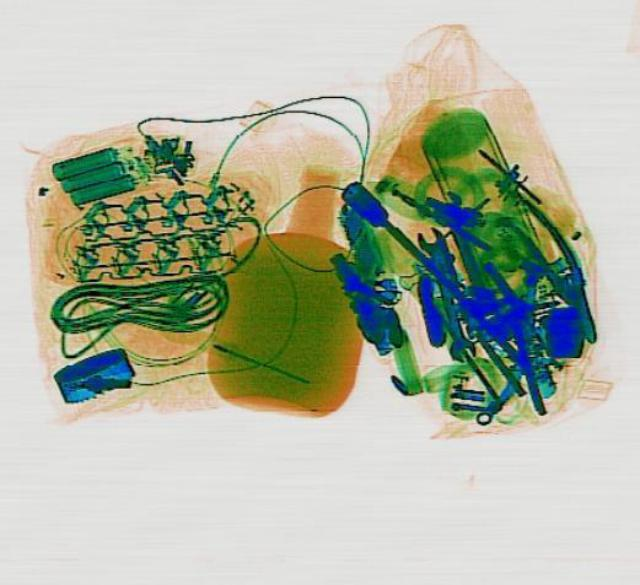Pliers: (493, 192, 619, 349)
Wrench: (409, 222, 481, 363)
